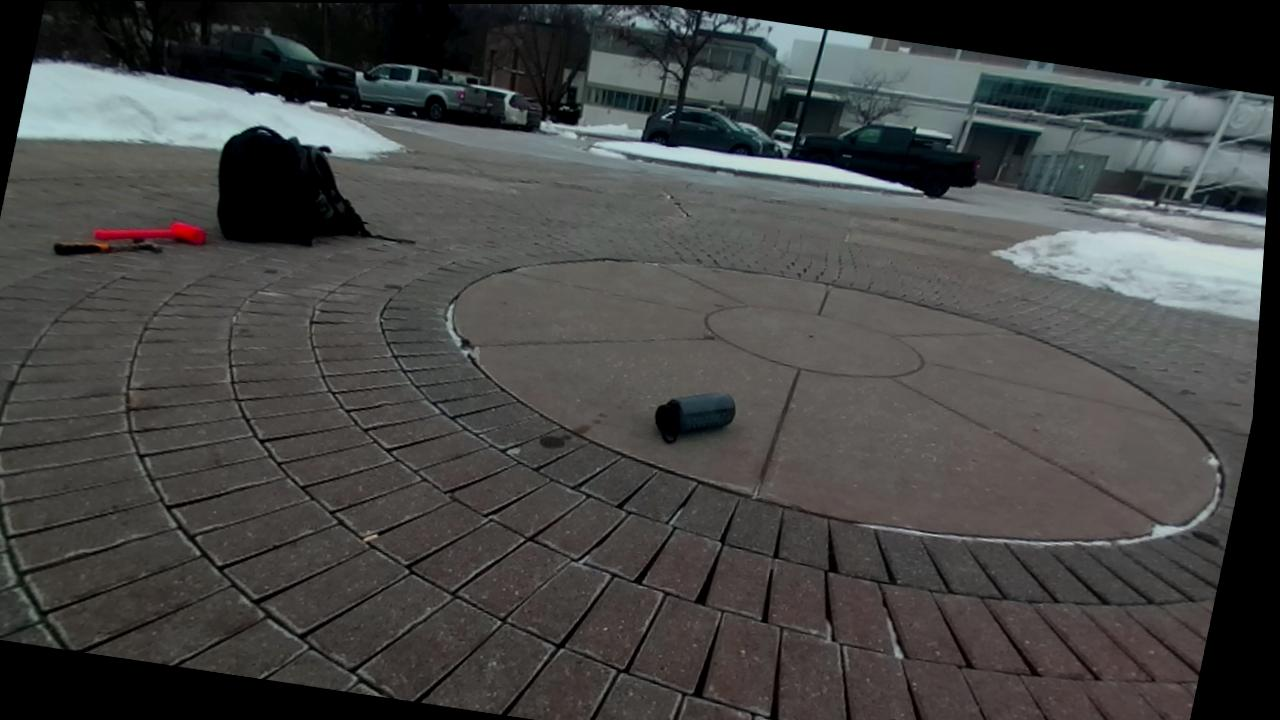bottle: (655, 392, 735, 442)
mallet: (94, 221, 205, 243)
pick: (52, 242, 160, 254)
